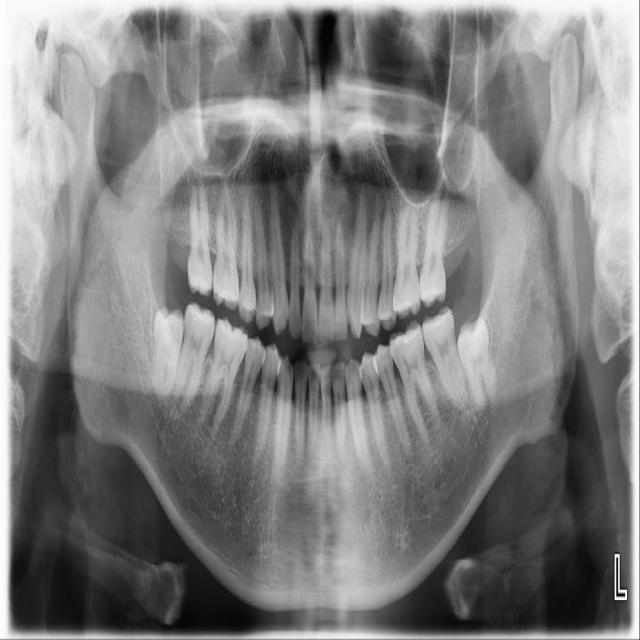impacted tooth: (458, 317, 497, 411), (148, 310, 184, 403)
